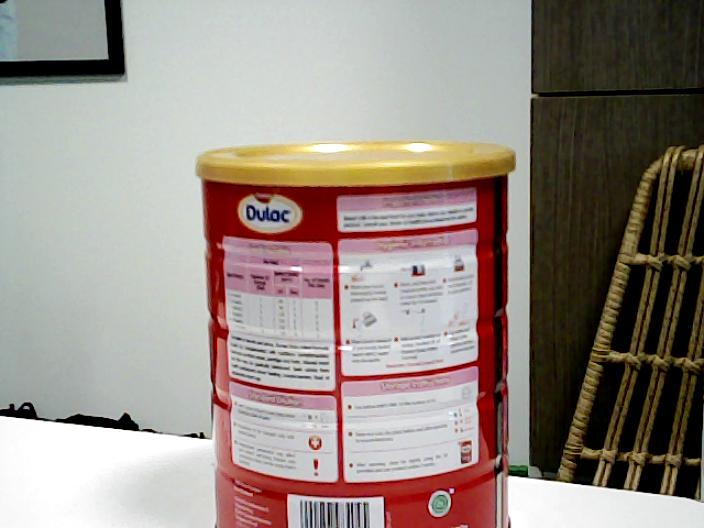Babymilk-powder-_800-899g_NonHalal_NonHealthy: (195, 137, 518, 528)
